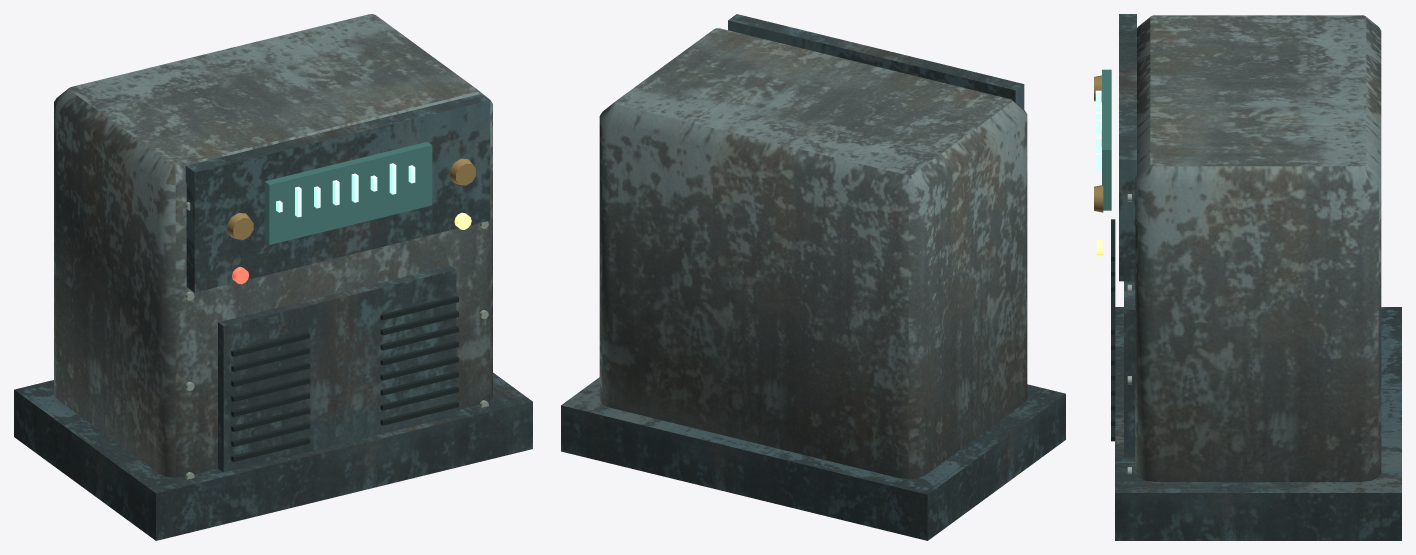
The model's file is instruments.glb.
The picture shows the model from 3 angles, left to right: view 1: azimuth 30°, elevation 25°; view 2: azimuth 150°, elevation 25°; view 3: azimuth 270°, elevation 25°; orthographic projection. The views are drawn at different scales.
Parts seen in each view (by area): view 1: ServiceConsole; view 2: ServiceConsole; view 3: ServiceConsole.
Boxes of the visible parts, left/top/right/bottom form: ServiceConsole: left=14, top=14, right=532, bottom=540; ServiceConsole: left=561, top=14, right=1065, bottom=540; ServiceConsole: left=1094, top=14, right=1401, bottom=540.
Size of the model in its own units: 1.18 by 1.07 by 0.8258.
Materials: 10 (3 with a texture image).
